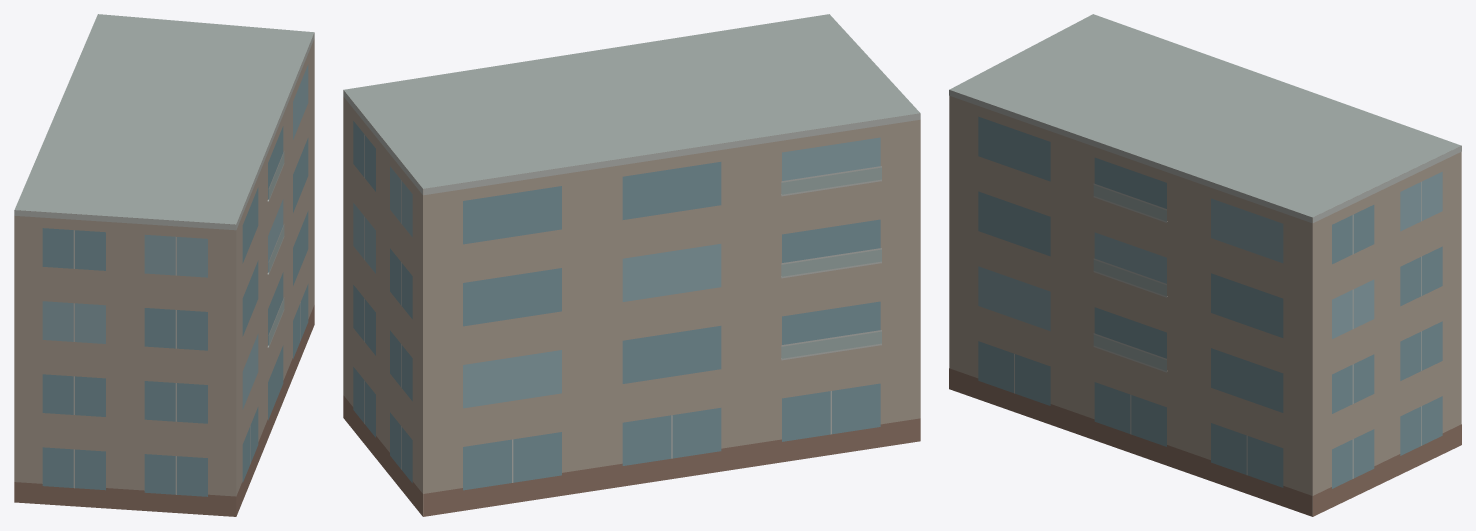
Rendered from survey-upis-32890123.glb.
The picture shows the model from 3 angles, left to right: view 1: azimuth 30°, elevation 25°; view 2: azimuth 150°, elevation 25°; view 3: azimuth 270°, elevation 25°; orthographic projection. The views are drawn at different scales.
Parts seen in each view (by area): view 1: survey-upis-32890123.tmp; view 2: survey-upis-32890123.tmp; view 3: survey-upis-32890123.tmp.
Part boxes in pixels (x1,y1,x2,y2): survey-upis-32890123.tmp: (14, 14, 314, 516); survey-upis-32890123.tmp: (343, 14, 920, 516); survey-upis-32890123.tmp: (949, 14, 1461, 516).
Bounding box in the file's own units: 18.09 × 12.4 × 19.25.
